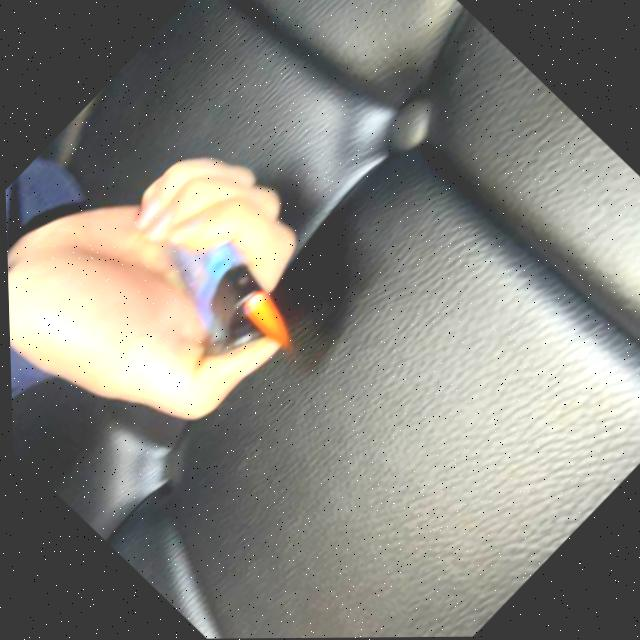Fire: (233, 282, 307, 356)
